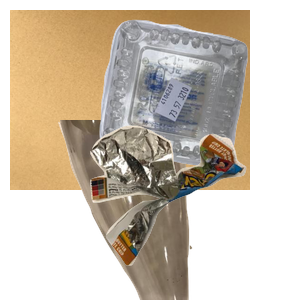cardboard: (10, 10, 250, 190)
glass: (56, 120, 241, 300)
plastic: (97, 17, 300, 176)
trash: (88, 123, 300, 300)
